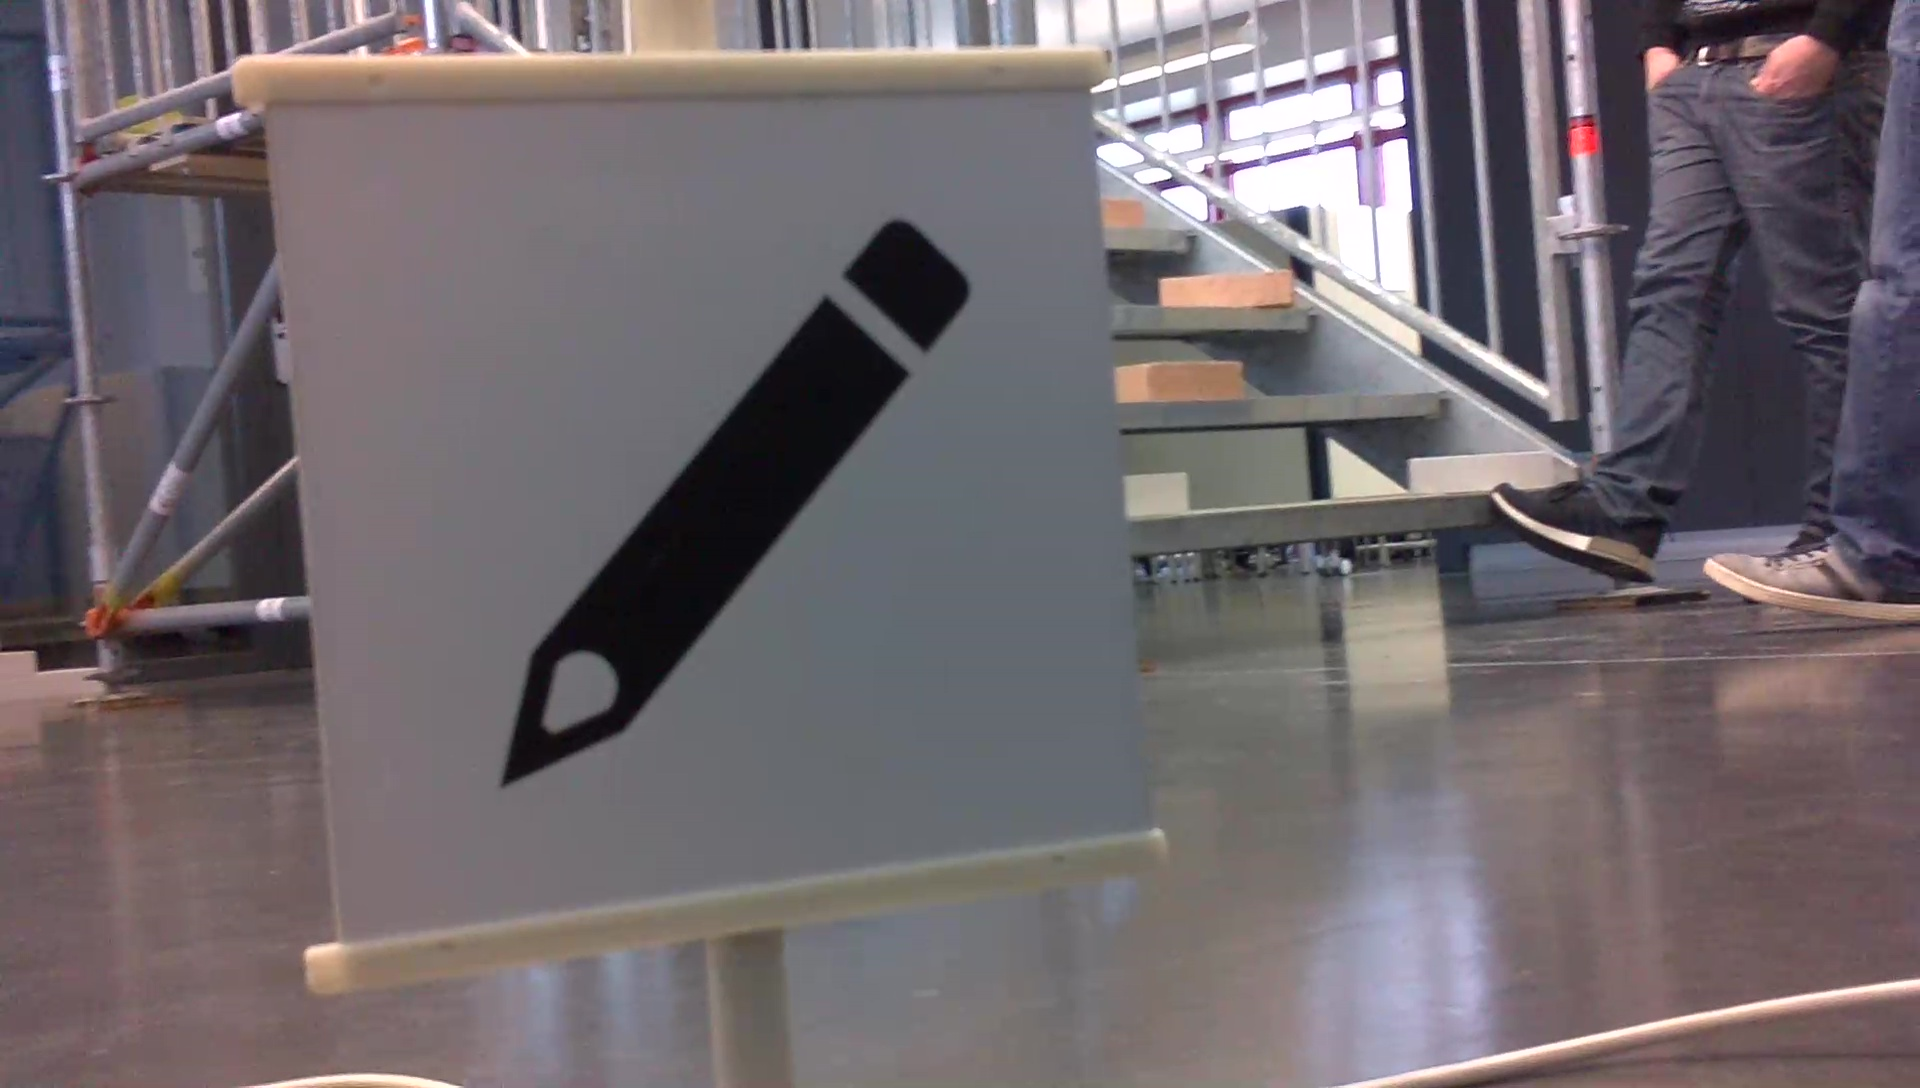brick: (1412, 454, 1552, 495), (1114, 360, 1242, 402), (1160, 270, 1288, 305), (1125, 471, 1185, 516), (1102, 196, 1141, 226)
edge: (1117, 386, 1449, 426), (1112, 306, 1317, 328), (1105, 226, 1197, 248)
pencil: (467, 200, 989, 807)
